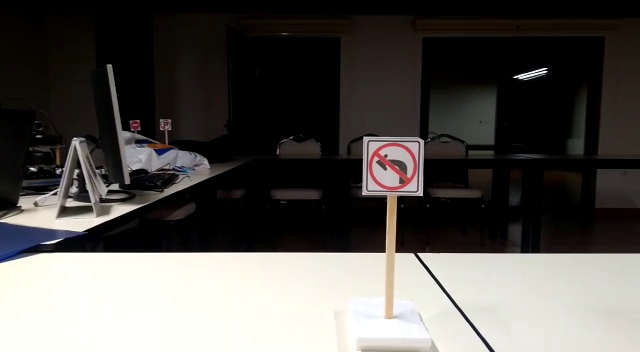sola_donulmez: (366, 140, 419, 194)
